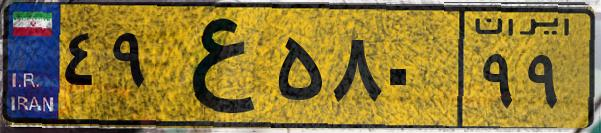0: (385, 28, 445, 110)
4: (57, 26, 110, 100)
5: (270, 28, 330, 110)
8: (330, 28, 385, 110)
9: (475, 38, 525, 113), (525, 38, 570, 115), (110, 28, 158, 98)
ع: (158, 12, 270, 120)
